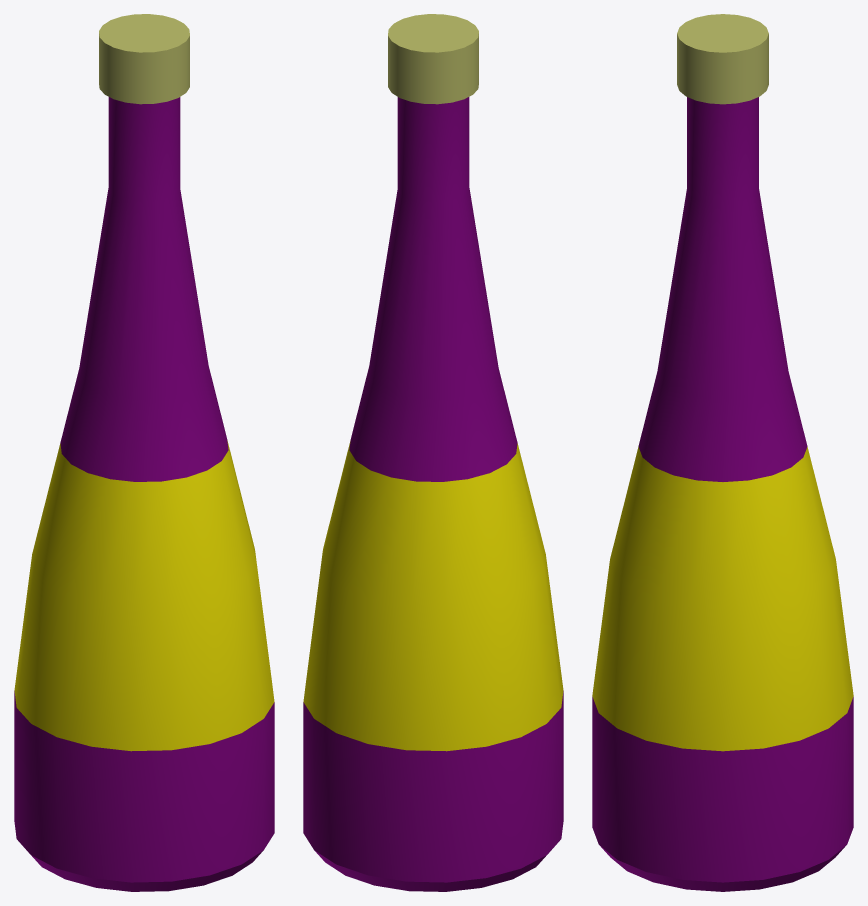
Rendered from WW_WonderlandWine_Prop.fbx.
3 views of the same model, side by side, from view 1: azimuth 30°, elevation 25°; view 2: azimuth 150°, elevation 25°; view 3: azimuth 270°, elevation 25° (orthographic).
Visible parts, largest first — view 1: Winebottle; view 2: Winebottle; view 3: Winebottle.
Part boxes in pixels (bbox=[...]): Winebottle: bbox=[14, 14, 274, 891]; Winebottle: bbox=[303, 14, 563, 891]; Winebottle: bbox=[592, 14, 853, 891].
Bounding box in the file's own units: 10.09 × 34.45 × 10.09.
